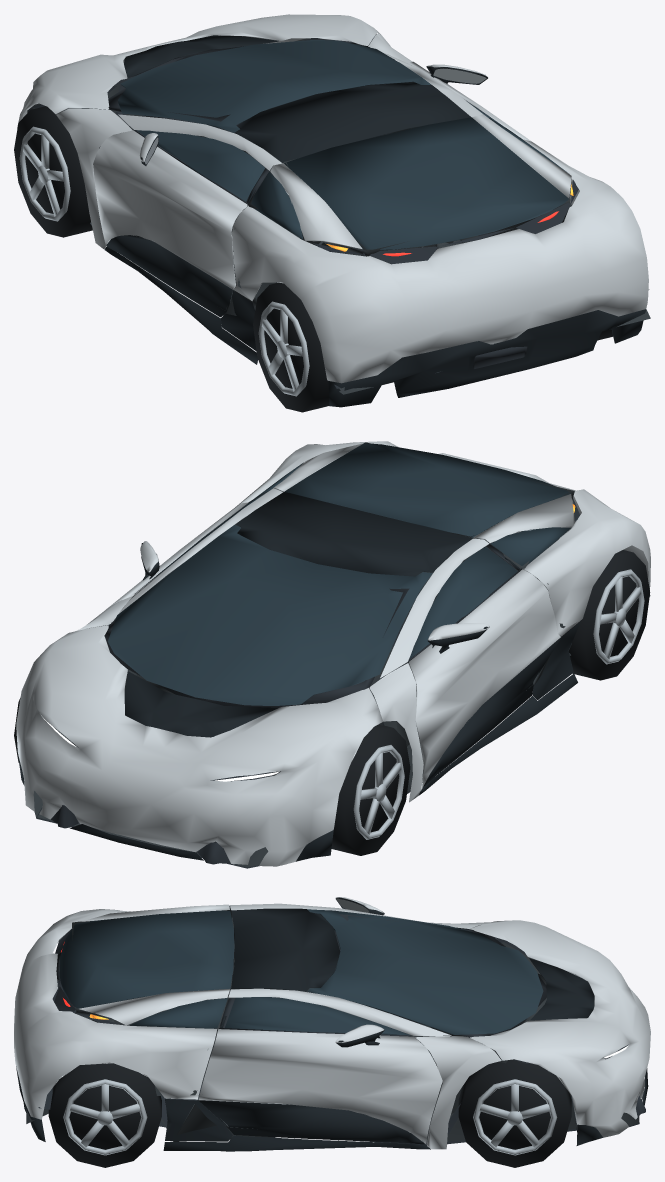
Rendered from concept-v11-race.glb.
3 renders of one model, top to bottom at view 1: azimuth 30°, elevation 25°; view 2: azimuth 150°, elevation 25°; view 3: azimuth 270°, elevation 25°, orthographic. The views are drawn at different scales.
Parts seen in each view (by area): view 1: Paint, Glass.001, Carbon, Rubber, Metal, Trim, Interior; view 2: Paint, Glass.001, Carbon, Rubber, Metal, Trim, Interior; view 3: Paint, Glass.001, Carbon, Rubber, Metal, Trim, Interior.
Boxes of the visible parts, left/top/right/bottom form: Paint: left=17, top=14, right=648, bottom=383; Glass.001: left=118, top=40, right=568, bottom=249; Carbon: left=104, top=35, right=646, bottom=407; Rubber: left=14, top=34, right=612, bottom=412; Metal: left=19, top=68, right=486, bottom=396; Trim: left=28, top=36, right=649, bottom=388; Interior: left=27, top=38, right=650, bottom=394; Paint: left=16, top=441, right=650, bottom=866; Glass.001: left=108, top=443, right=571, bottom=705; Carbon: left=17, top=492, right=580, bottom=861; Rubber: left=14, top=550, right=650, bottom=855; Metal: left=353, top=569, right=644, bottom=839; Trim: left=34, top=495, right=579, bottom=868; Interior: left=33, top=442, right=650, bottom=866; Paint: left=14, top=897, right=650, bottom=1149; Glass.001: left=59, top=909, right=543, bottom=1035; Carbon: left=16, top=897, right=648, bottom=1151; Rubber: left=48, top=952, right=571, bottom=1167; Metal: left=63, top=899, right=557, bottom=1155; Trim: left=38, top=906, right=645, bottom=1145; Interior: left=26, top=908, right=639, bottom=1141.
Bounding box in the file's own units: 2.12 × 1.04 × 3.95.
